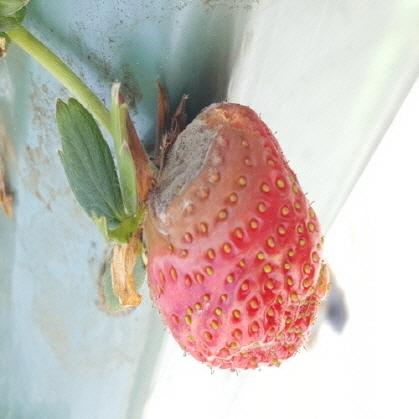Gray Mold: (141, 94, 233, 237)
